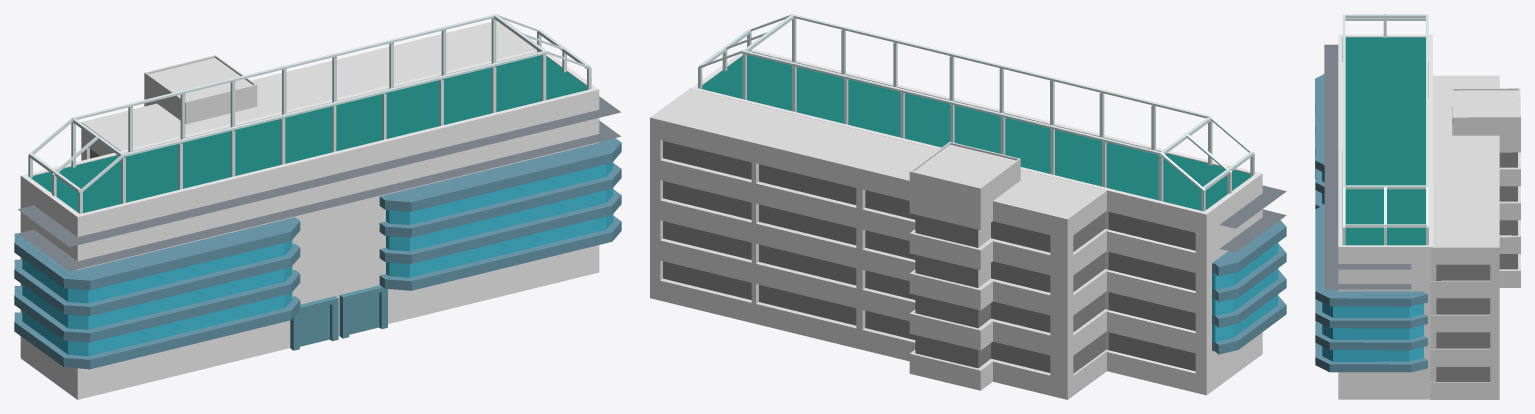
The model's file is building21.glb.
The picture shows the model from 3 angles, left to right: view 1: azimuth 30°, elevation 25°; view 2: azimuth 150°, elevation 25°; view 3: azimuth 270°, elevation 25°; orthographic projection. The views are drawn at different scales.
Visible parts, largest first — view 1: Cube.001, Cube.002, RooftopField, Cube.006, Cube, Cube.003, Cube.005, Cube.004; view 2: Cube, Cube.007, RooftopField, Cube.001, Cube.005, Cube.008, Cube.002, Cube.006, Cube.003; view 3: Cube, RooftopField, Cube.001, Cube.002, Cube.007, Cube.003, Cube.006, Cube.005.
Boxes of the visible parts, bbox=[...] form: Cube.001: bbox=[20, 49, 599, 399]; Cube.002: bbox=[14, 138, 621, 369]; RooftopField: bbox=[31, 55, 587, 213]; Cube.006: bbox=[22, 162, 613, 356]; Cube: bbox=[81, 19, 544, 160]; Cube.003: bbox=[18, 96, 620, 271]; Cube.005: bbox=[28, 14, 591, 213]; Cube.004: bbox=[290, 285, 387, 350]; Cube: bbox=[650, 88, 1108, 399]; Cube.007: bbox=[663, 141, 1106, 373]; RooftopField: bbox=[702, 54, 1251, 210]; Cube.001: bbox=[690, 49, 1262, 395]; Cube.005: bbox=[698, 14, 1254, 211]; Cube.008: bbox=[1108, 212, 1195, 371]; Cube.002: bbox=[1212, 220, 1286, 354]; Cube.006: bbox=[1212, 243, 1278, 341]; Cube.003: bbox=[1220, 185, 1286, 252]; Cube: bbox=[1430, 75, 1520, 399]; RooftopField: bbox=[1342, 37, 1425, 245]; Cube.001: bbox=[1338, 34, 1433, 399]; Cube.002: bbox=[1315, 74, 1427, 372]; Cube.007: bbox=[1436, 152, 1517, 382]; Cube.003: bbox=[1324, 44, 1411, 289]; Cube.006: bbox=[1322, 172, 1423, 361]; Cube.005: bbox=[1342, 14, 1428, 245].
Bounding box in the file's own units: 38.46 × 15.24 × 14.7.
